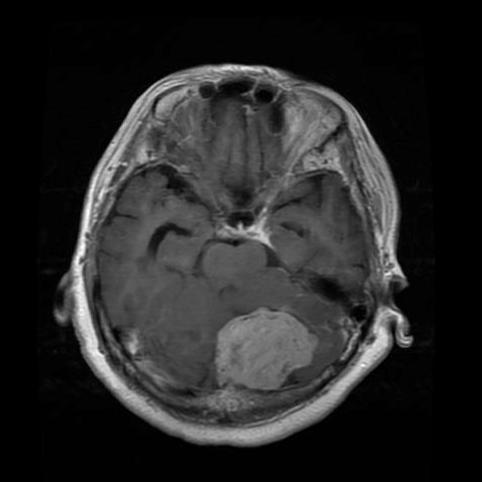Tumour-Pituitary: (185, 289, 342, 394)
